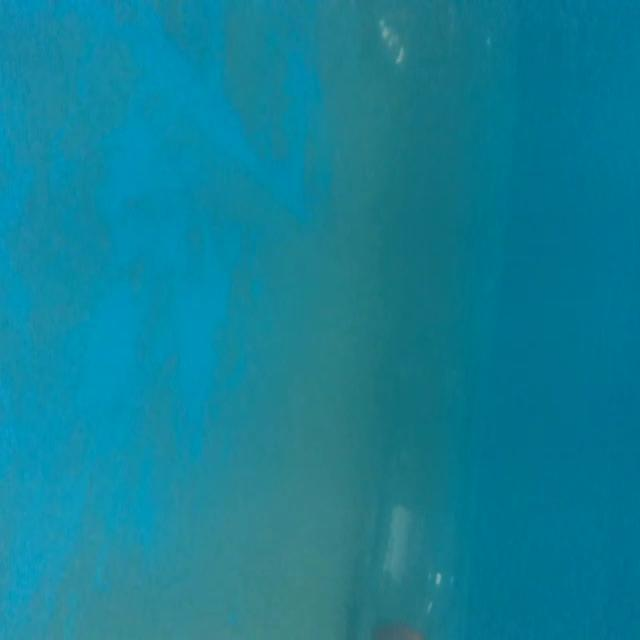plastic bottle: (362, 333, 467, 640)
